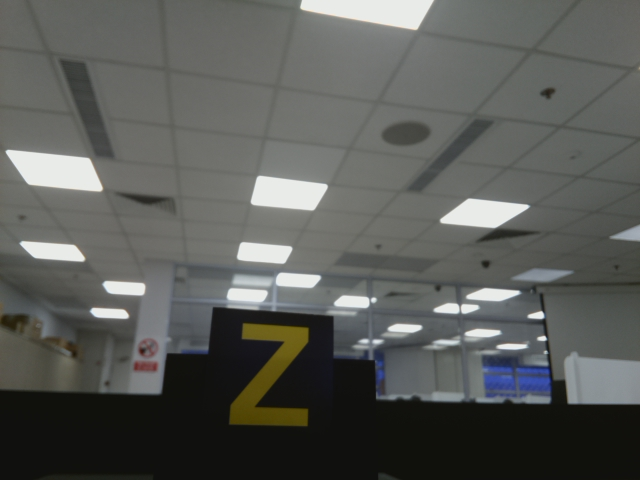z: (229, 319, 314, 437)
